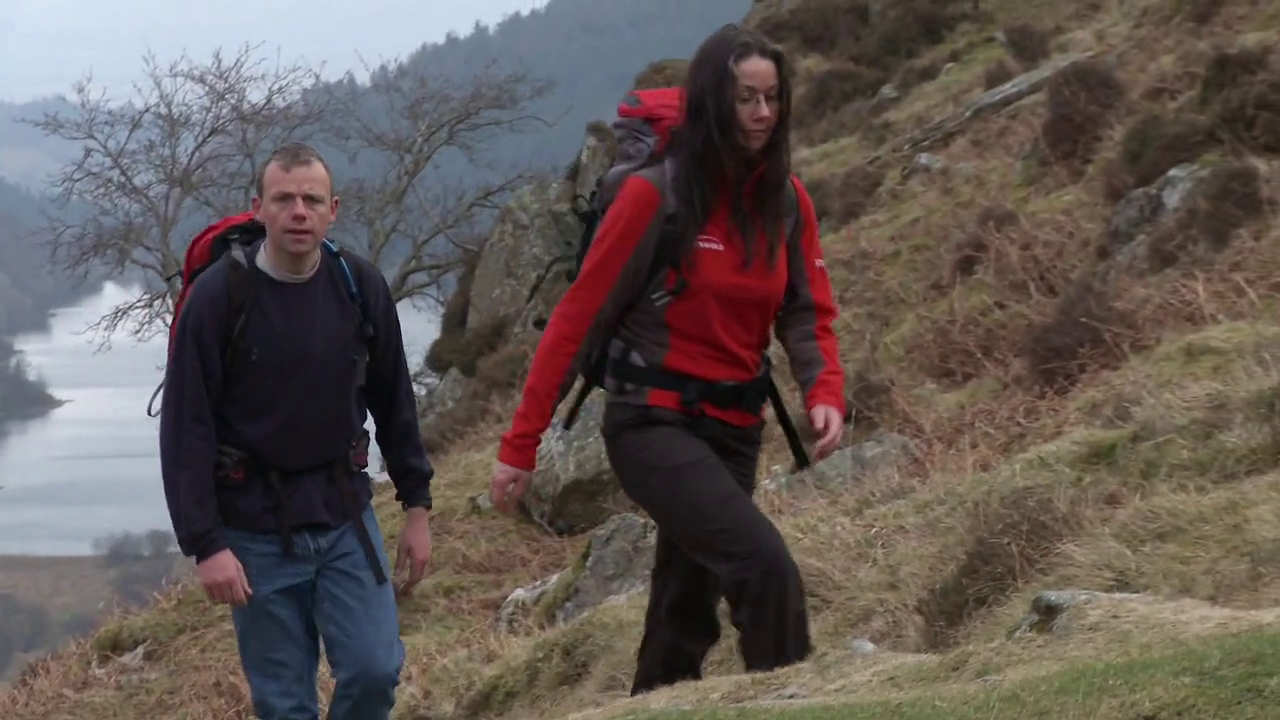person: (490, 24, 846, 696), (159, 142, 432, 720)
